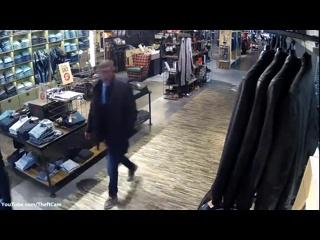Normal: (83, 60, 139, 208), (0, 148, 12, 208)
